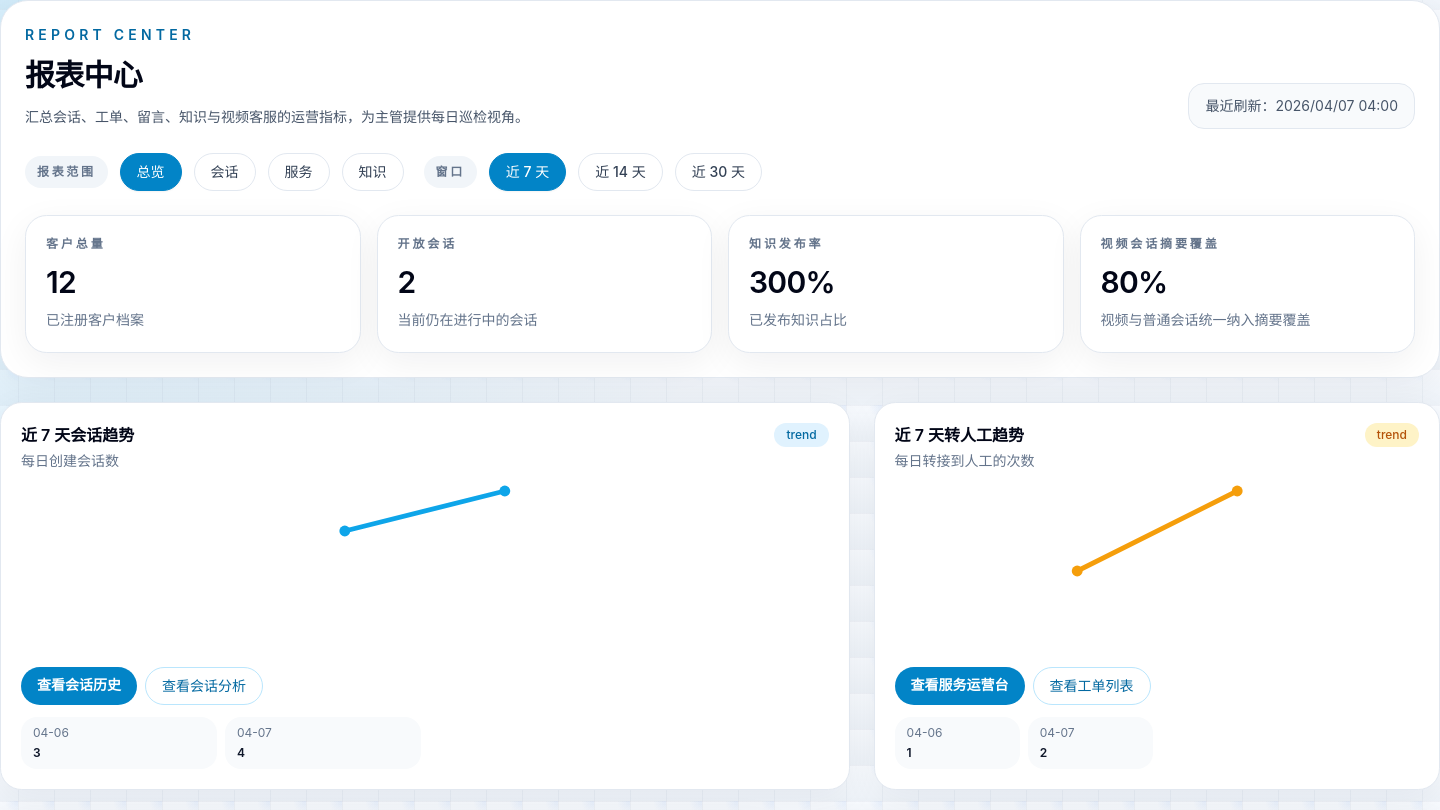
admin-web enhancement pages › renders report center metrics, scope filters, and drilldown links
Check: the heading "报表中心" is shown, box [25,57,142,93]
Check: the button "总览" is shown, box [120,153,182,191]
Click the button "知识" at [373, 172], box [342,153,404,191]
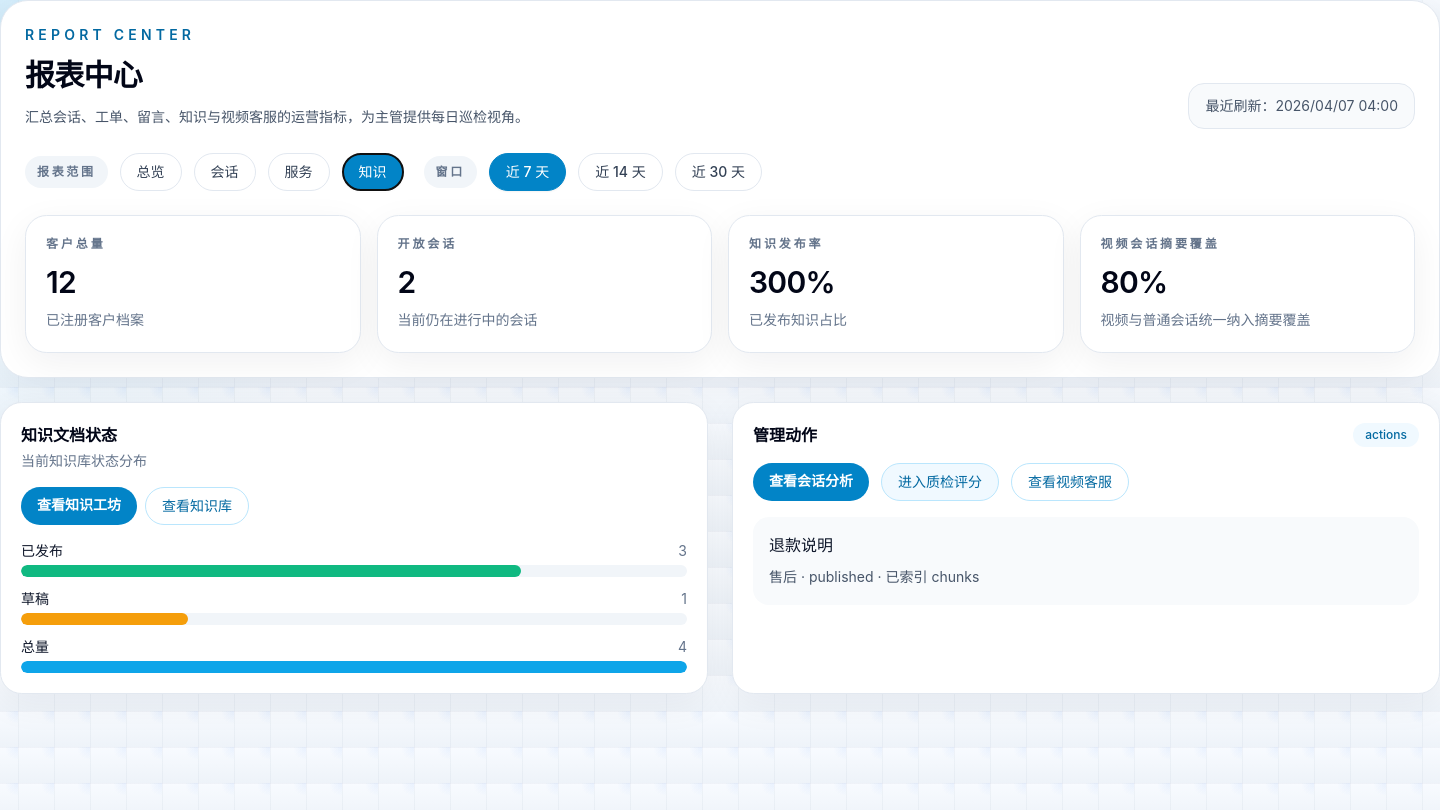
Check: the heading "知识文档状态" is shown, box [21,425,117,445]
Check: the heading "近 7 天会话趋势" is gone
